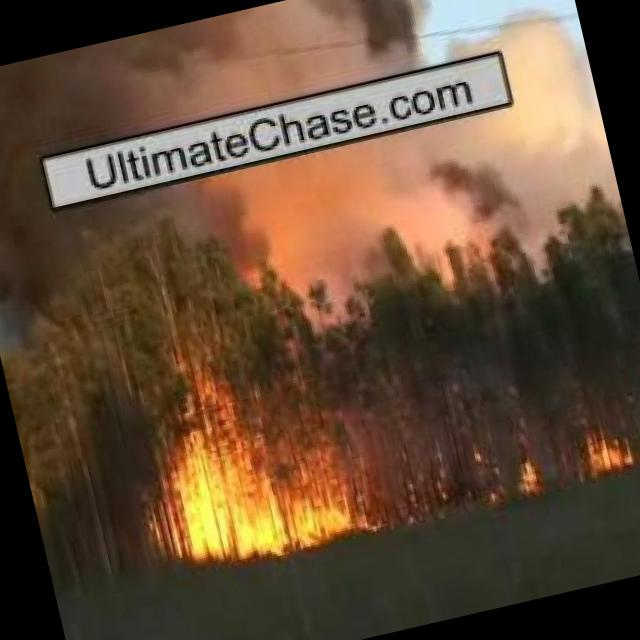Fire: (147, 390, 372, 576), (578, 424, 640, 481), (507, 457, 548, 494)
Smoke: (0, 90, 635, 406), (0, 0, 445, 169)
